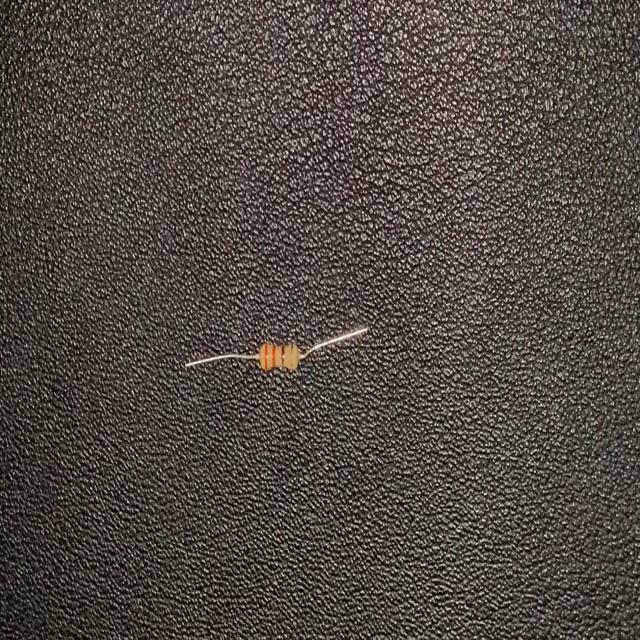faded: (288, 343, 300, 373)
resistor: (182, 320, 371, 382)
